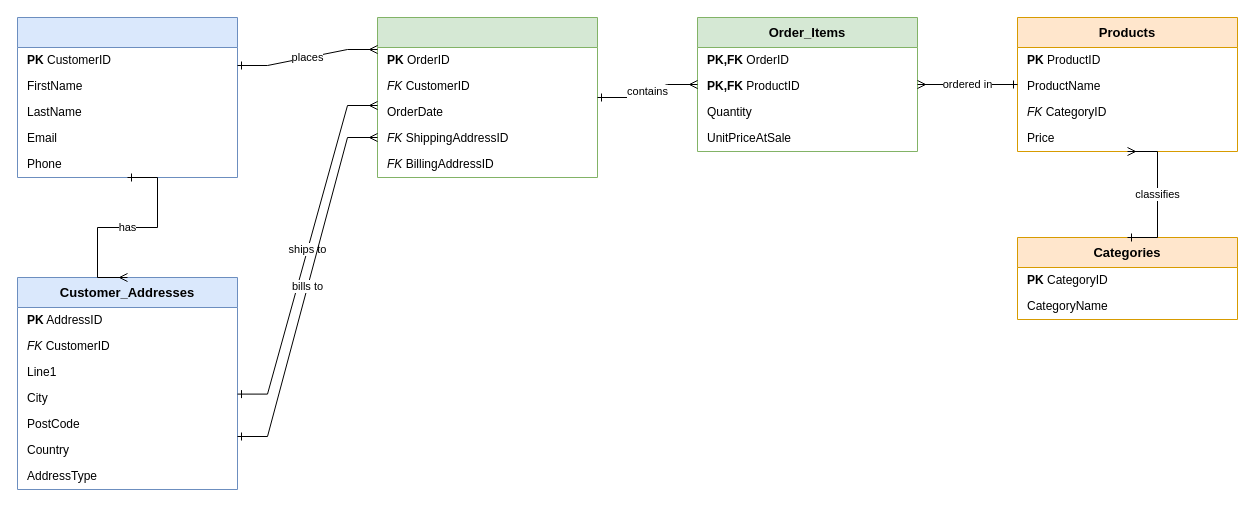
Image size: 1255x507. Some labels were removed from this diagram. Here are the shapes that lost their labels. From the top down, the box of each, then its label:
(16, 16, 238, 178): Customers
(376, 16, 598, 178): Orders
